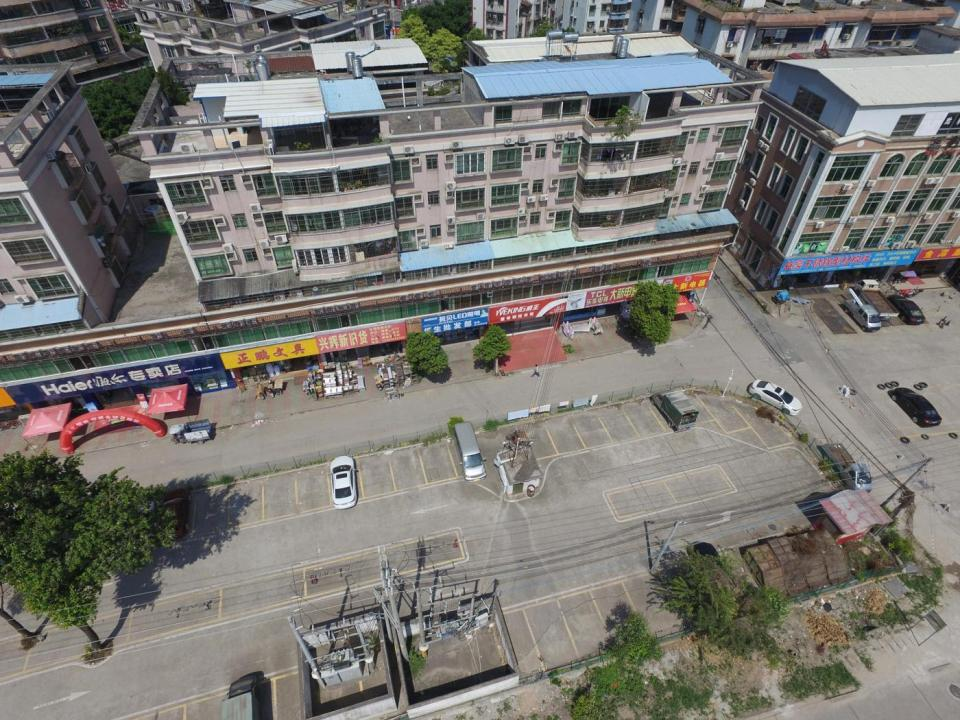car: (891, 387, 941, 428), (748, 379, 802, 416), (328, 456, 357, 509), (888, 295, 925, 324)
van: (821, 444, 873, 494), (452, 421, 487, 481), (651, 390, 698, 434), (855, 280, 900, 322), (221, 674, 262, 718), (844, 298, 881, 331), (170, 419, 213, 444)
